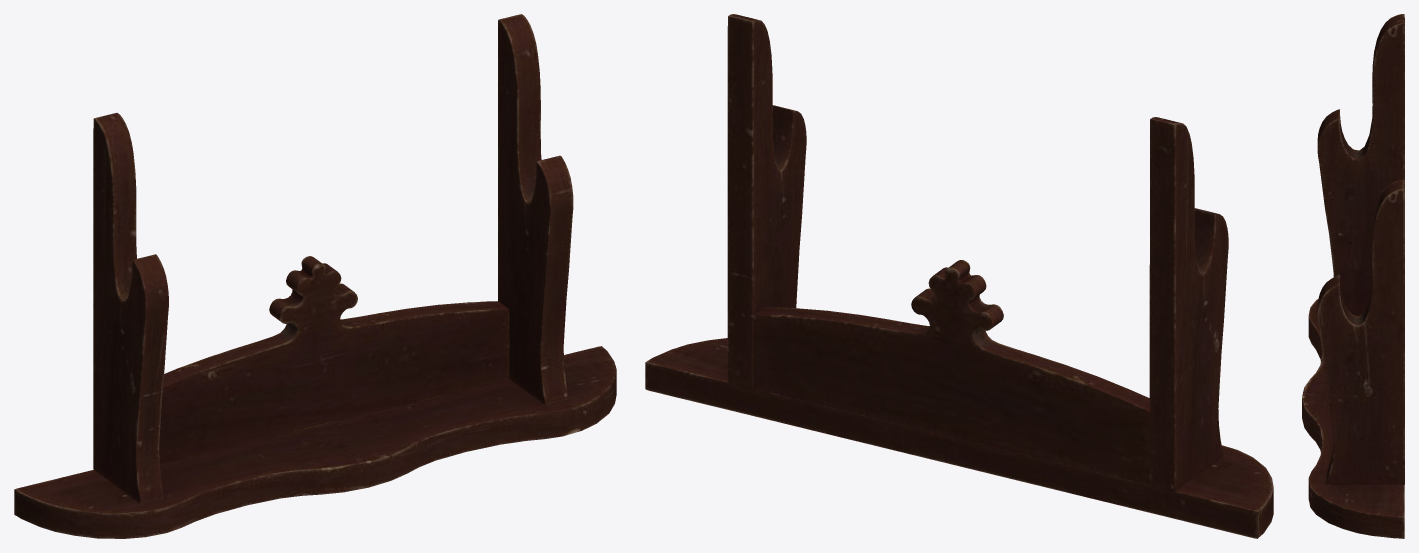
Rendered from katana_stand_01.glb.
3 views of the same model, side by side, from view 1: azimuth 30°, elevation 25°; view 2: azimuth 150°, elevation 25°; view 3: azimuth 270°, elevation 25° (orthographic). The views are drawn at different scales.
Parts seen in each view (by area): view 1: katana_stand_01; view 2: katana_stand_01; view 3: katana_stand_01.
Boxes of the visible parts, <box> form: katana_stand_01: <box>14,14,616,538</box>; katana_stand_01: <box>645,14,1273,538</box>; katana_stand_01: <box>1302,14,1404,538</box>.
Size of the model in its own units: 0.2958 by 0.1819 by 0.0535.
Materials: 1 (1 with a texture image).
